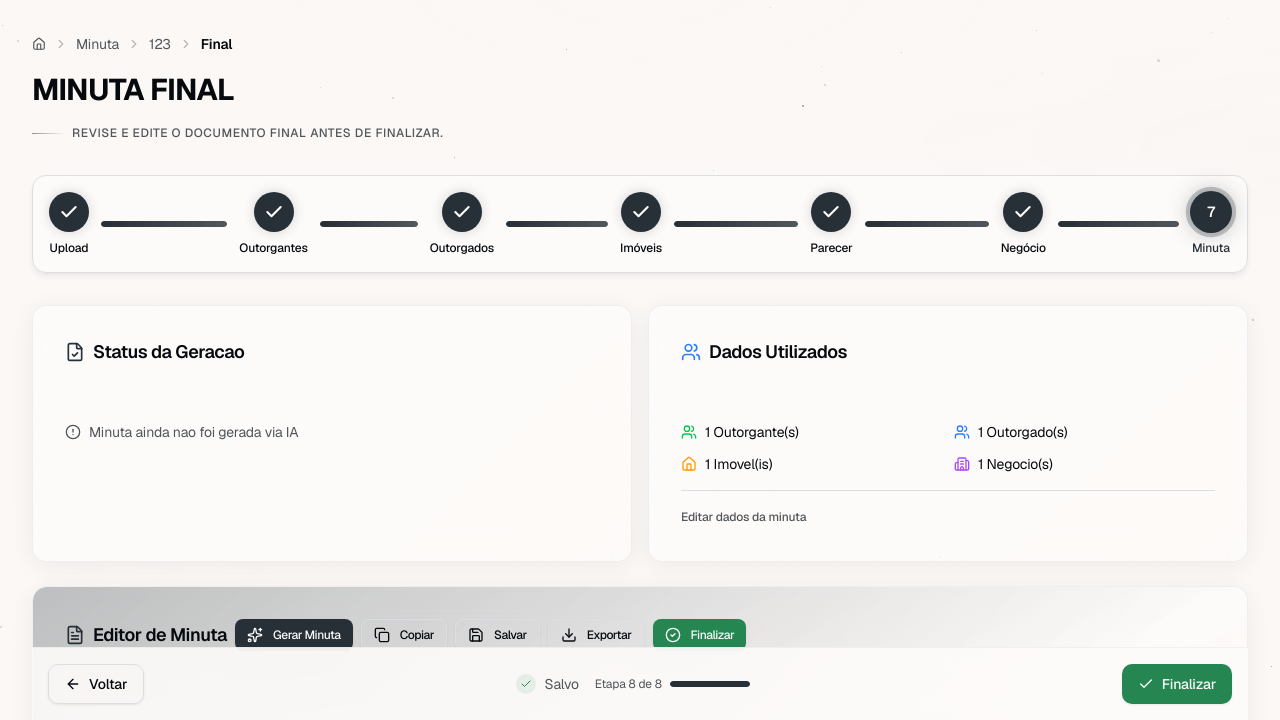
MinutaFinal - Template Selection Integration › opens template selection modal when "Gerar Minuta" is clicked
The width and height of the screenshot is (1280, 720).
// Find and click "Gerar Minuta" button
What coordinates should you click on to do the following:
click the button "Gerar Minuta"
I would click on:
 (294, 635)
Its box is [235, 619, 353, 651].
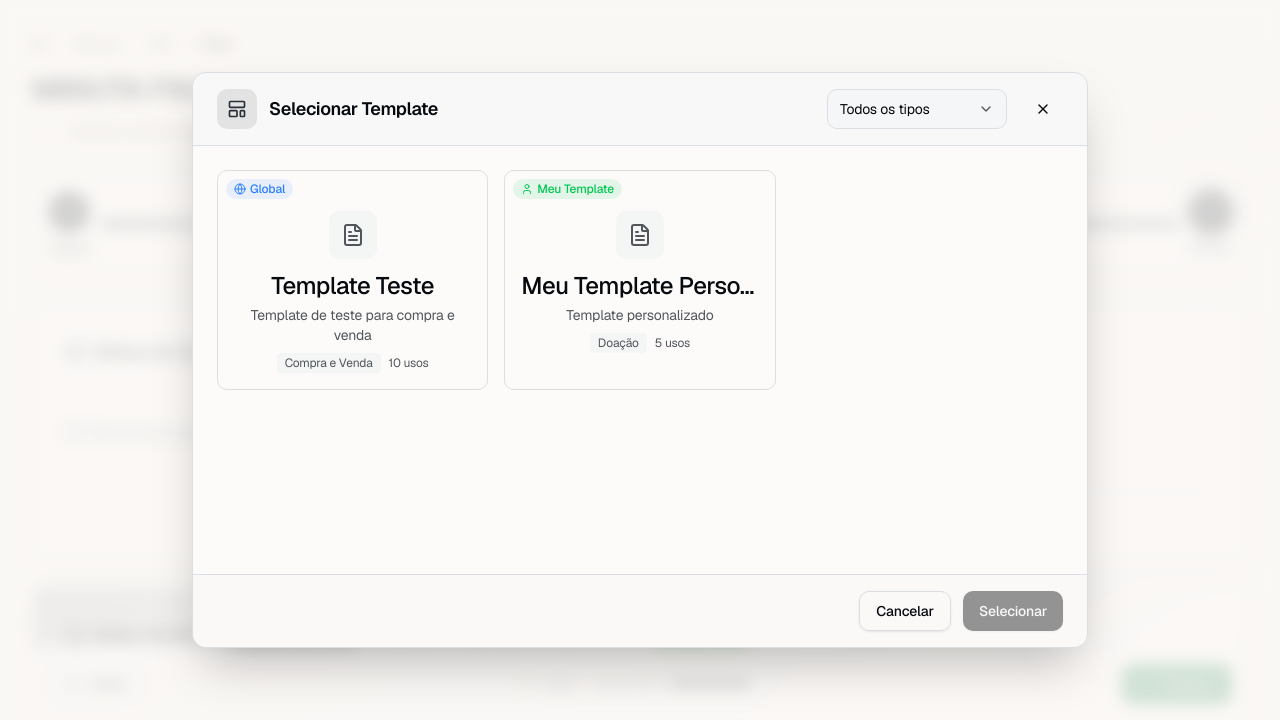
Expected: the dialog is shown, [192, 72, 1088, 648]
Expected: the heading "Selecionar Template" is shown, [269, 95, 438, 123]
